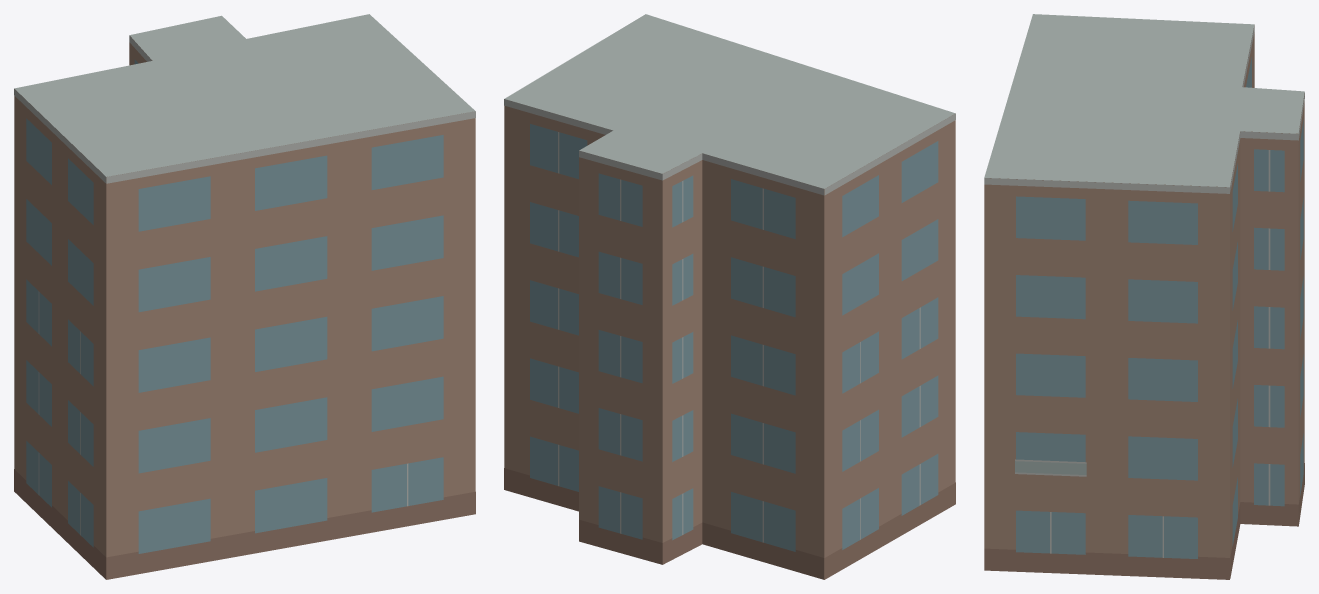
File: survey-upis-32964766.glb
The picture shows the model from 3 angles, left to right: view 1: azimuth 30°, elevation 25°; view 2: azimuth 150°, elevation 25°; view 3: azimuth 270°, elevation 25°; orthographic projection. The views are drawn at different scales.
Visible parts, largest first — view 1: survey-upis-32964766.tmp; view 2: survey-upis-32964766.tmp; view 3: survey-upis-32964766.tmp.
Part boxes in pixels (x1,y1,x2,y2): survey-upis-32964766.tmp: (14,14,475,579); survey-upis-32964766.tmp: (504,14,955,579); survey-upis-32964766.tmp: (984,14,1304,579).
Bounding box in the file's own units: 13.54 × 14.3 × 10.59.
